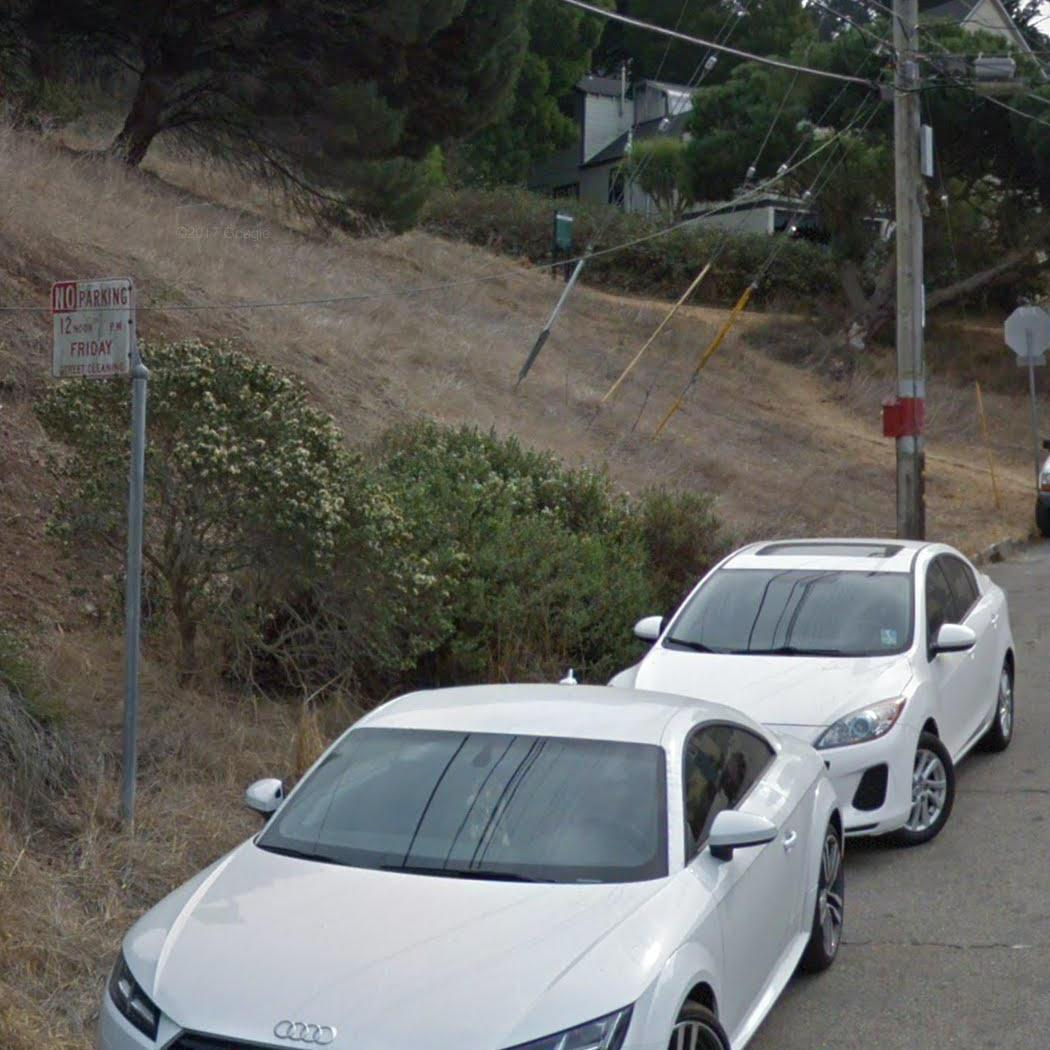No Parking: (43, 271, 143, 385)
